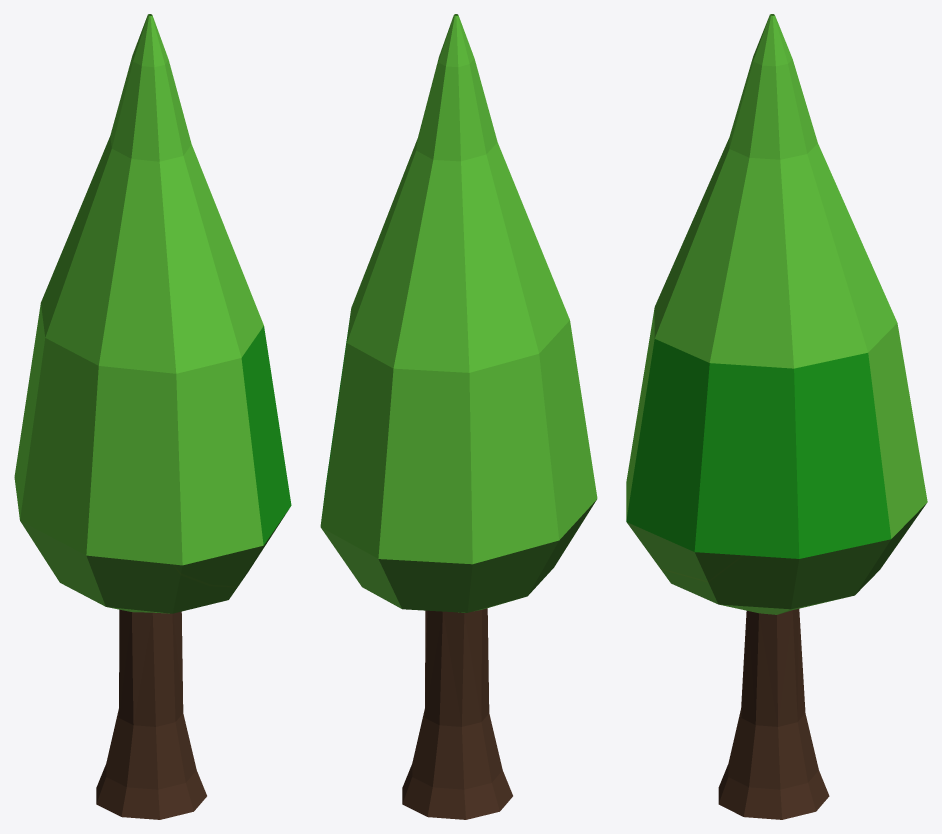
File: Tree 01.fbx
3 renders of one model, left to right at view 1: azimuth 30°, elevation 25°; view 2: azimuth 150°, elevation 25°; view 3: azimuth 270°, elevation 25°, orthographic.
Parts seen in each view (by area): view 1: Circle; view 2: Circle; view 3: Circle.
Part boxes in pixels (<box>): Circle: <box>14,14,291,819</box>; Circle: <box>320,14,597,819</box>; Circle: <box>626,14,927,819</box>.
Bounding box in the file's own units: 471 × 1506 × 526.
